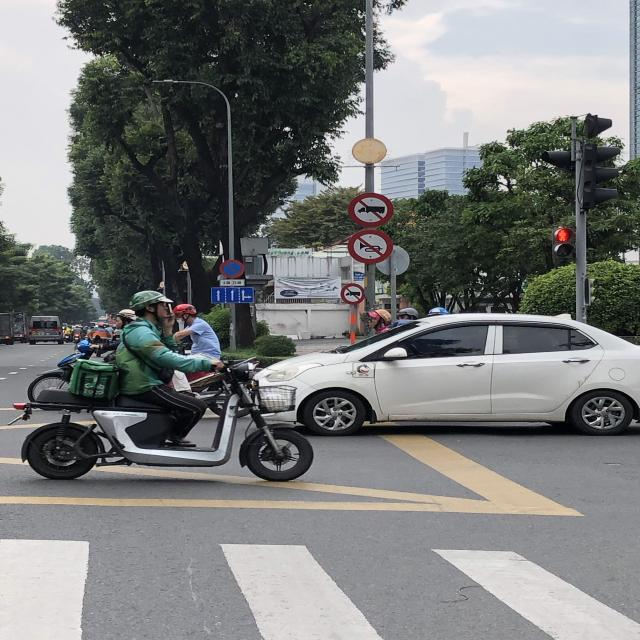Bien bao cam do xe: (218, 258, 248, 278)
Bien bao cam xe so-mi ro-mooc: (346, 189, 395, 228), (338, 281, 367, 304)
